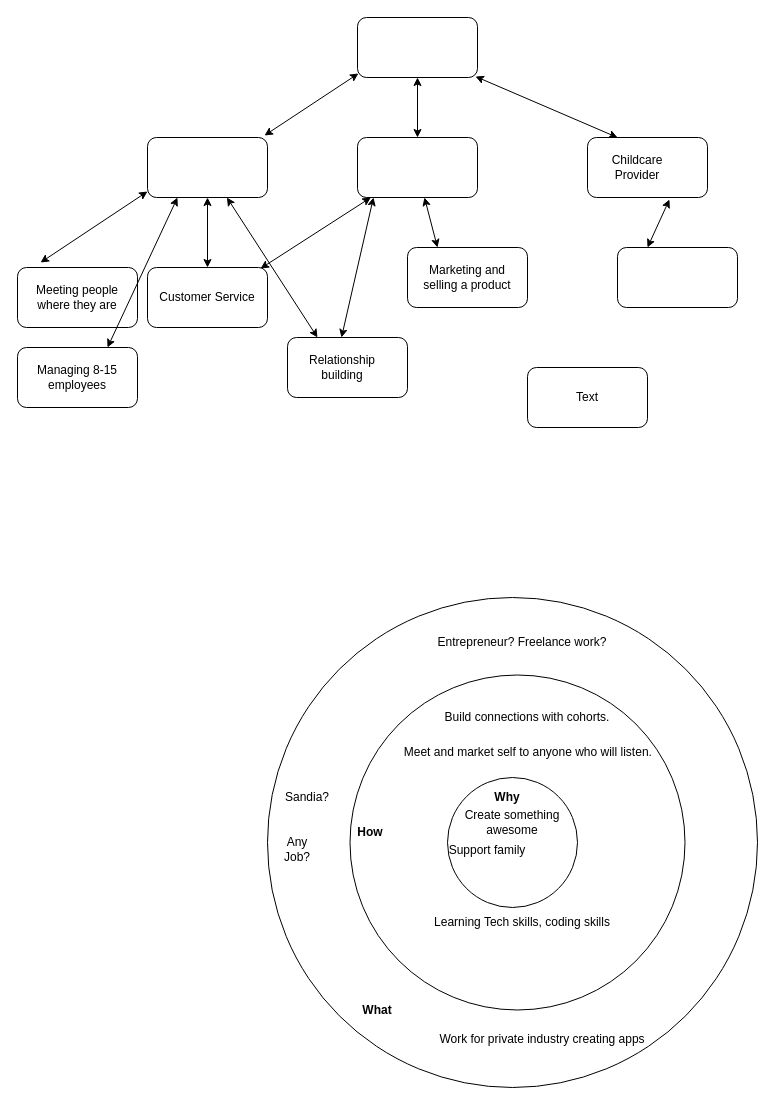
This 775x1105 diagram has some shape labels left out. Here are the shapes that lost their labels. From the top down, the box of each, then its label:
(356, 16, 478, 78): Skills
(146, 136, 268, 198): Program Director
(356, 136, 478, 198): Realtor
(616, 246, 738, 308): Creativity
